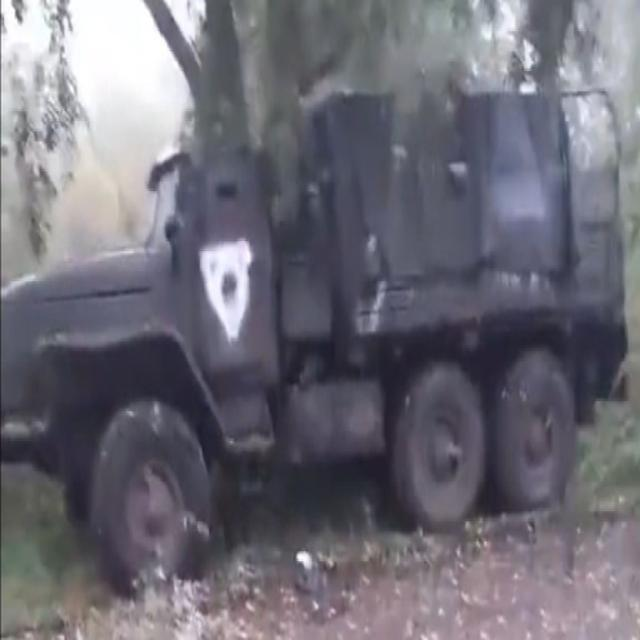TRUCK: (0, 71, 629, 589)
